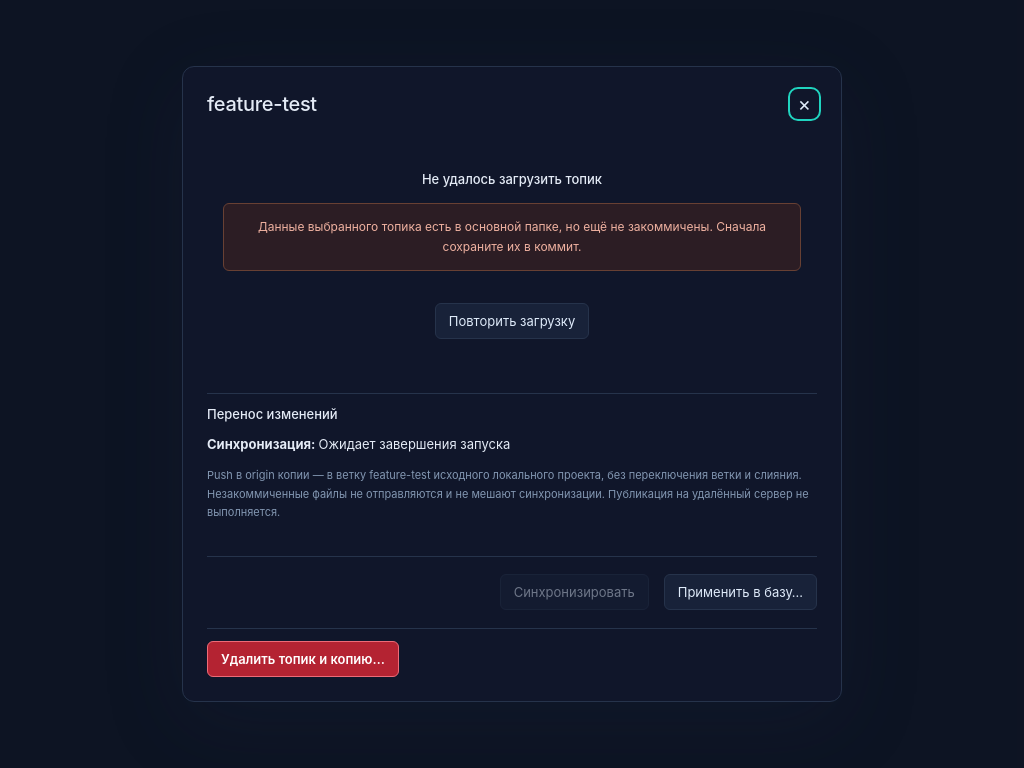
Scenario: keeps host sync-waiting and blocked apply preview guards despite the independent card failure
Expected: the message that starts with "Не удалось загрузить топик" is shown, [223,171,801,287]
Expected: the text "Ожидает завершения запуска" is shown, [318,436,510,452]
Click the button "Применить в базу…" at (740, 592), box [664,574,817,610]
(page scrolled)
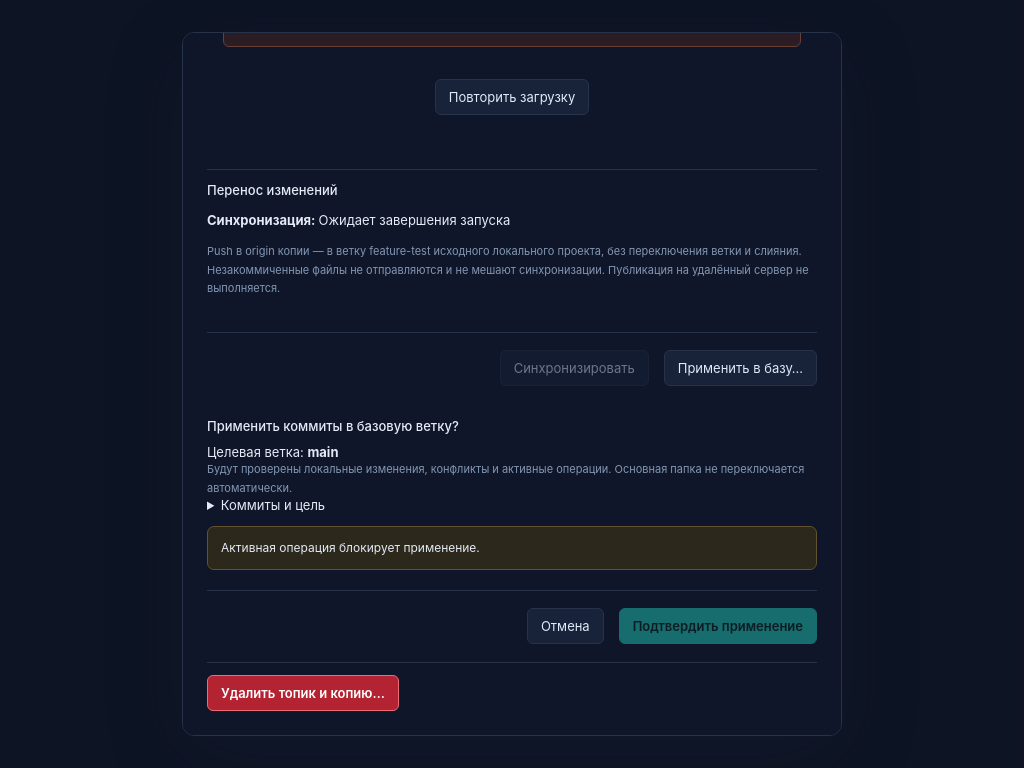
Expected: the text "Активная операция блокирует применение." is shown, [207,526,817,570]
Expected: the button "Подтвердить применение" is disabled, [619,608,817,644]
